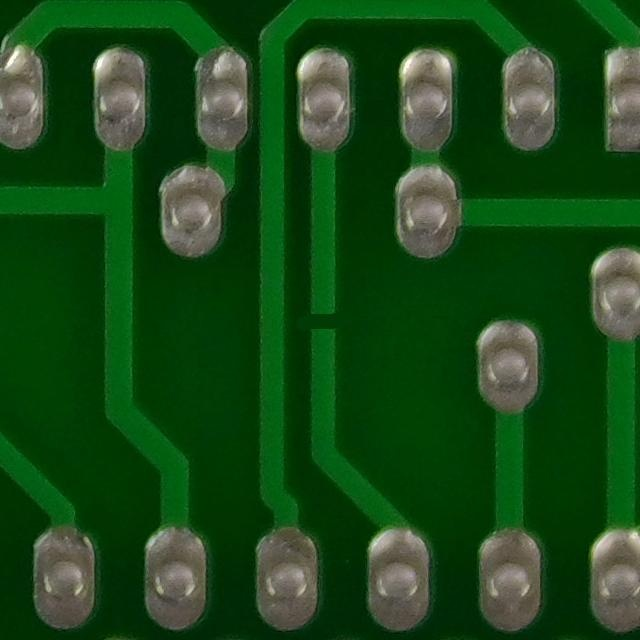open_circuit: (300, 295, 341, 346)
